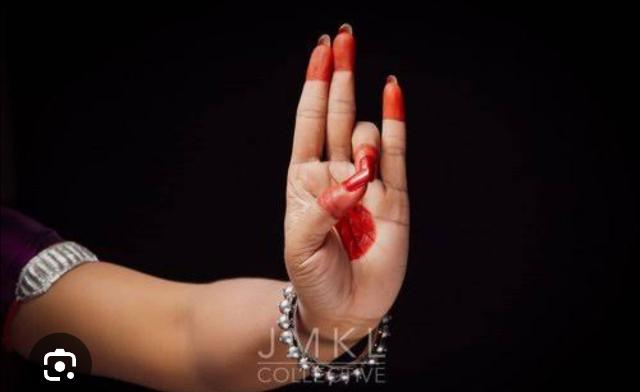mayur: (0, 28, 418, 392), (233, 19, 477, 361)
